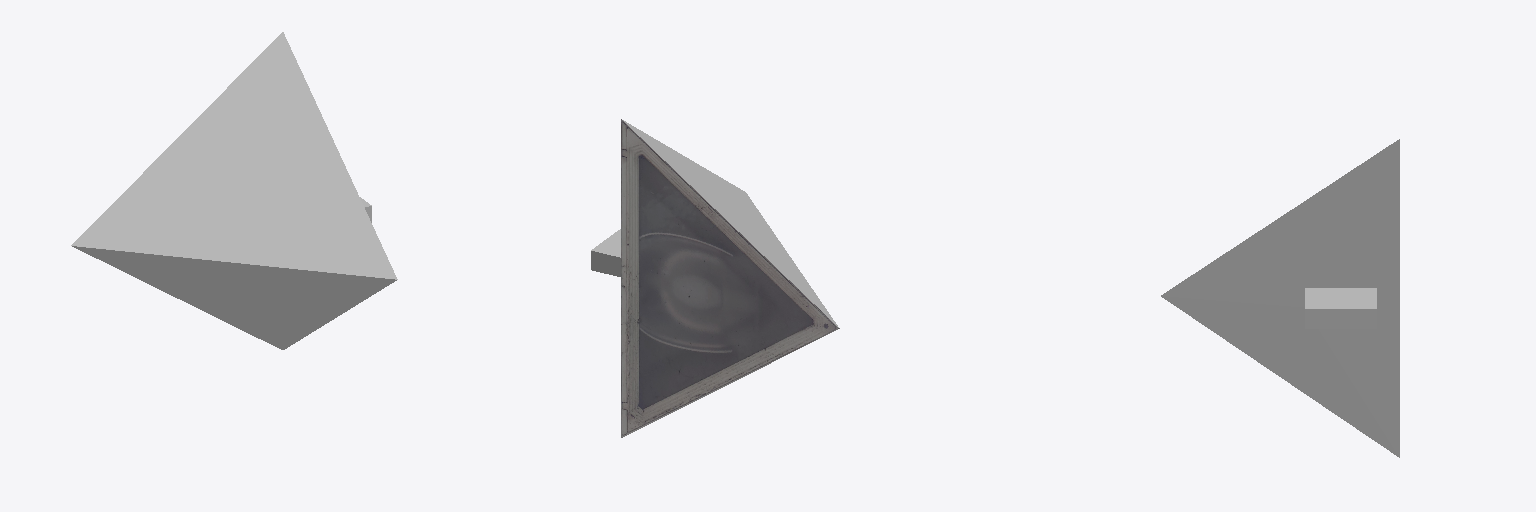
3 renders of one model, left to right at view 1: azimuth 30°, elevation 25°; view 2: azimuth 150°, elevation 25°; view 3: azimuth 270°, elevation 25°, orthographic.
Parts seen in each view (by area): view 1: Cone_Cone.001; view 2: Cone_Cone.001; view 3: Cone_Cone.001.
Boxes of the visible parts, x1,y1,x2,y2 form: Cone_Cone.001: [71, 32, 397, 349]; Cone_Cone.001: [591, 119, 839, 437]; Cone_Cone.001: [1161, 139, 1399, 457].
Size of the model in its own units: 0.6229 by 0.74 by 0.503.
2 materials, 1 textured.